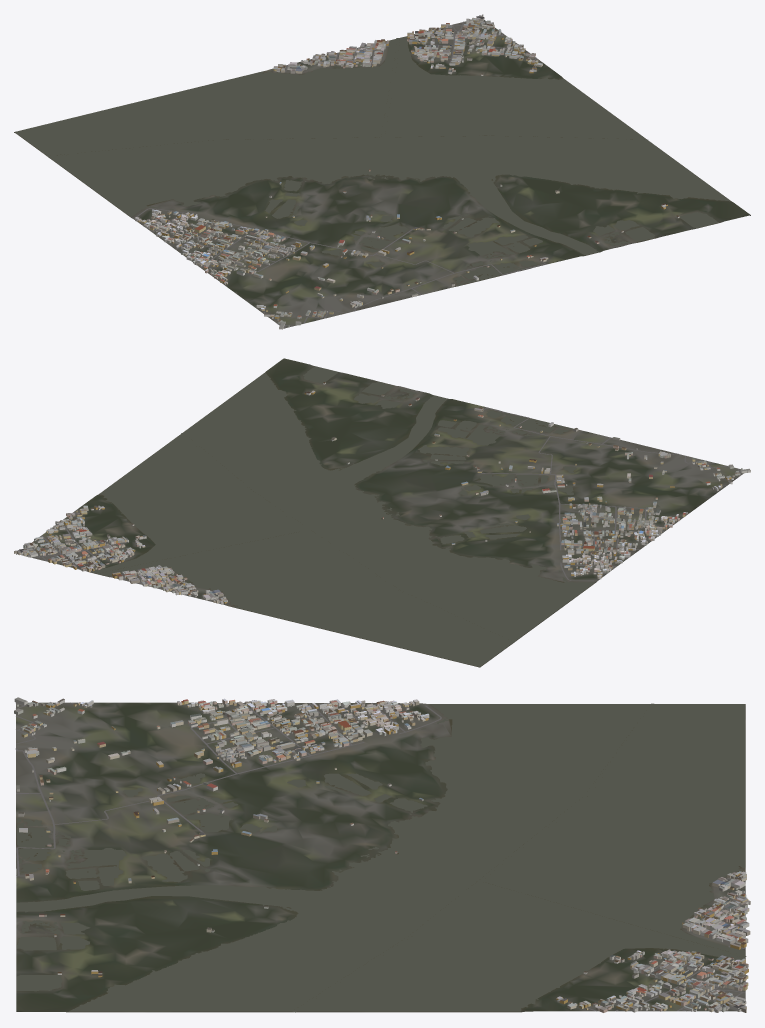
The picture shows the model from 3 angles, top to bottom: view 1: azimuth 30°, elevation 25°; view 2: azimuth 150°, elevation 25°; view 3: azimuth 270°, elevation 25°; orthographic projection. The views are drawn at different scales.
Visible parts, largest first — view 1: water, ground, buildings, roads; view 2: water, ground, buildings, roads; view 3: water, ground, buildings, roads.
Boxes of the visible parts, box(x1,y1,x2,y2) form: water: box(15, 36, 730, 285); ground: box(14, 20, 750, 328); buildings: box(135, 14, 679, 329); roads: box(135, 21, 546, 328); water: box(90, 366, 594, 666); ground: box(16, 358, 743, 667); buildings: box(14, 382, 750, 604); roads: box(26, 407, 741, 601); water: box(16, 703, 746, 1012); ground: box(16, 702, 745, 1012); buildings: box(14, 697, 750, 1012); roads: box(15, 702, 745, 1011).
Size of the model in its own units: 1420 by 16.6 by 1415.
